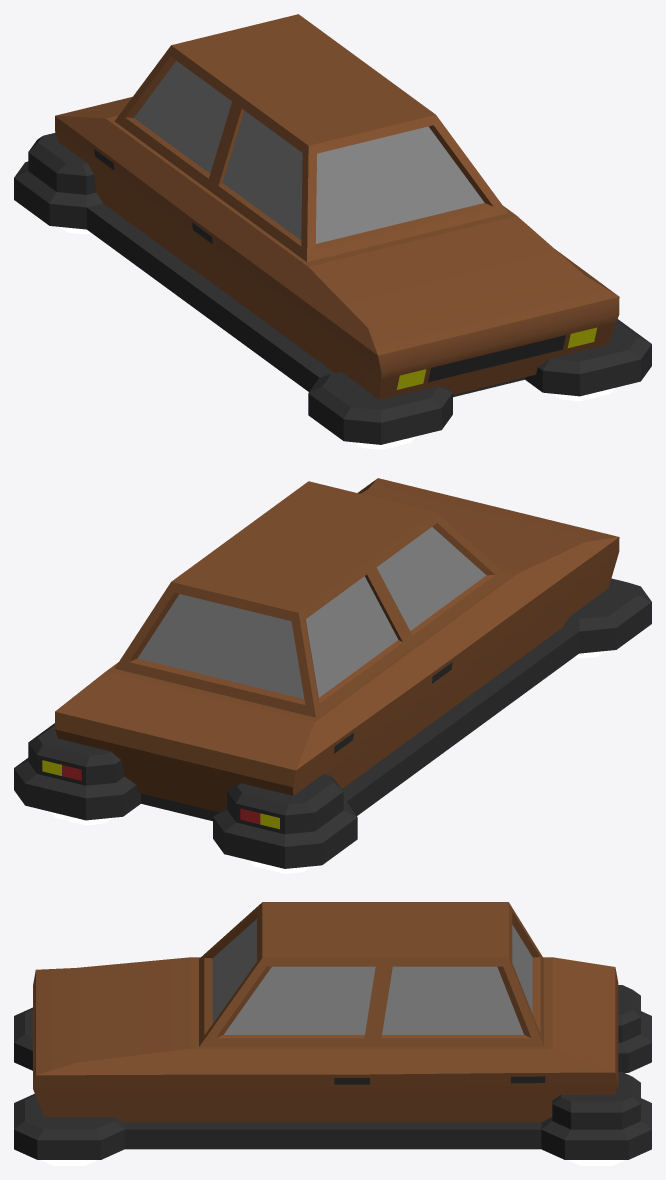
File: MOBIL_NPC_PRIBADI_3.fbx
3 renders of one model, top to bottom at view 1: azimuth 30°, elevation 25°; view 2: azimuth 150°, elevation 25°; view 3: azimuth 270°, elevation 25°, orthographic. The views are drawn at different scales.
Visible parts, largest first — view 1: MOBIL_NPC_PRIBADI_3; view 2: MOBIL_NPC_PRIBADI_3; view 3: MOBIL_NPC_PRIBADI_3.
Part boxes in pixels (x1,y1,x2,y2): MOBIL_NPC_PRIBADI_3: (14,14,651,449); MOBIL_NPC_PRIBADI_3: (14,478,651,873); MOBIL_NPC_PRIBADI_3: (14,902,651,1165).
Bounding box in the file's own units: 172 × 107 × 343.
